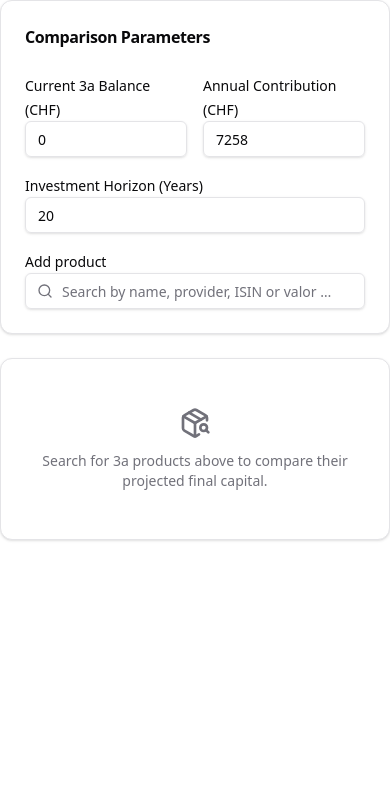
Test: CompareTab › returns to the empty-selection state when the last product is removed
Expected: the text "Search for 3a products above" is shown, [42, 451, 348, 490]
Type "Alpha Fund" into the field named "Add product".
click(195, 291); type("Alpha Fund")  # box [25, 273, 365, 309]
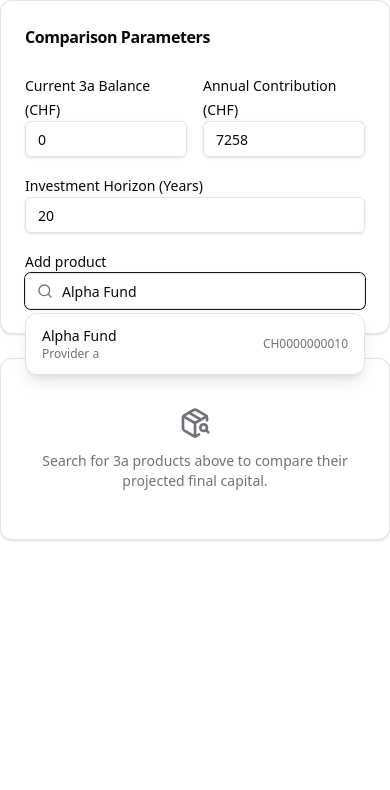
Click the button "Alpha Fund Provider a CH0000000010".
click(79, 336)  # box [30, 318, 360, 370]
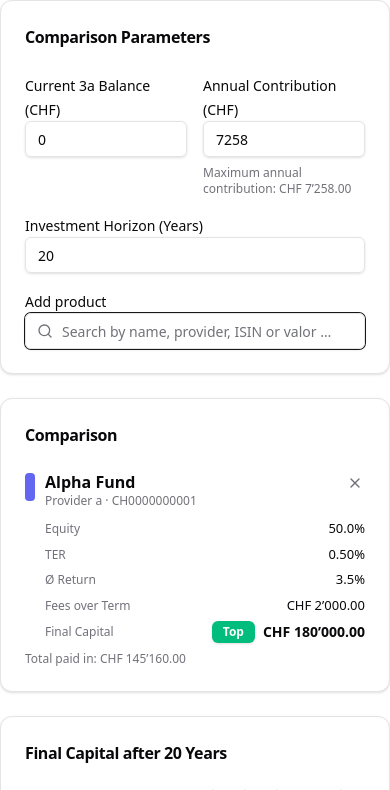
Click the button named "Remove Alpha Fund".
click(355, 483)  # box [337, 465, 373, 501]
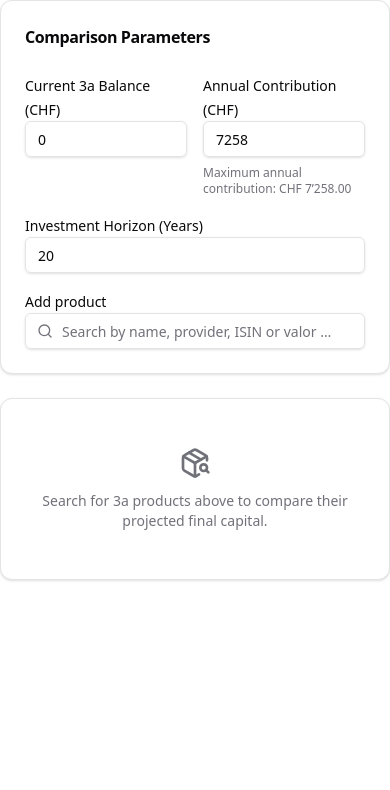
Result: the text "Search for 3a products above" is shown at [42, 491, 348, 530]
Result: the text "Top" is gone
